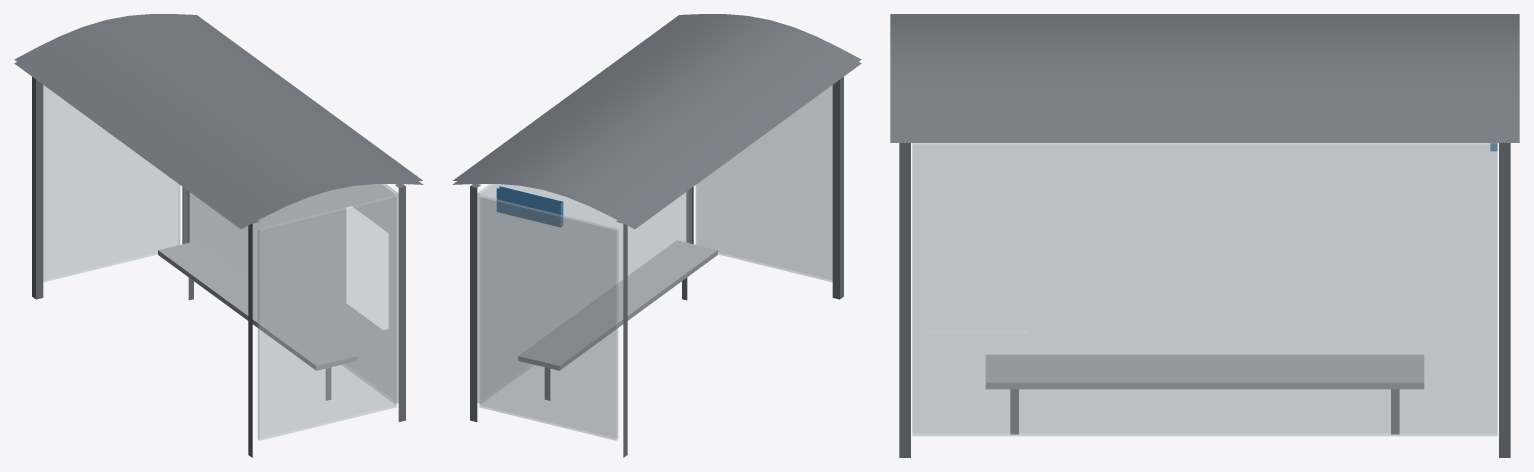
Rendered from bus_shelter.glb.
3 views of the same model, side by side, from view 1: azimuth 30°, elevation 25°; view 2: azimuth 150°, elevation 25°; view 3: azimuth 270°, elevation 25° (orthographic). The views are drawn at different scales.
Parts seen in each view (by area): view 1: BusShelter; view 2: BusShelter; view 3: BusShelter.
Part boxes in pixels (bbox=[...]): BusShelter: bbox=[14, 14, 423, 457]; BusShelter: bbox=[452, 14, 861, 457]; BusShelter: bbox=[890, 14, 1519, 457].
Size of the model in its own units: 2 by 2.67 by 4.3.
